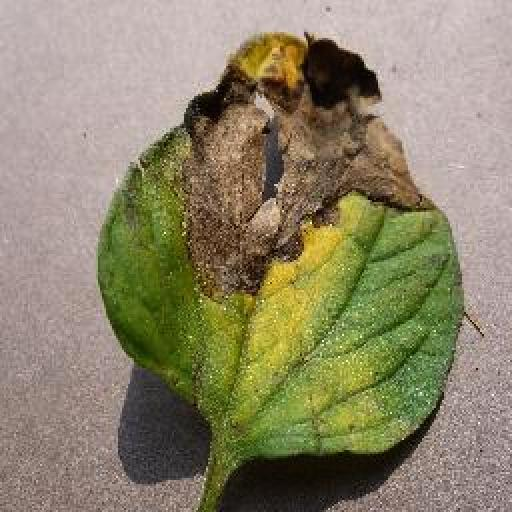disease_tomato: (100, 30, 470, 468)
